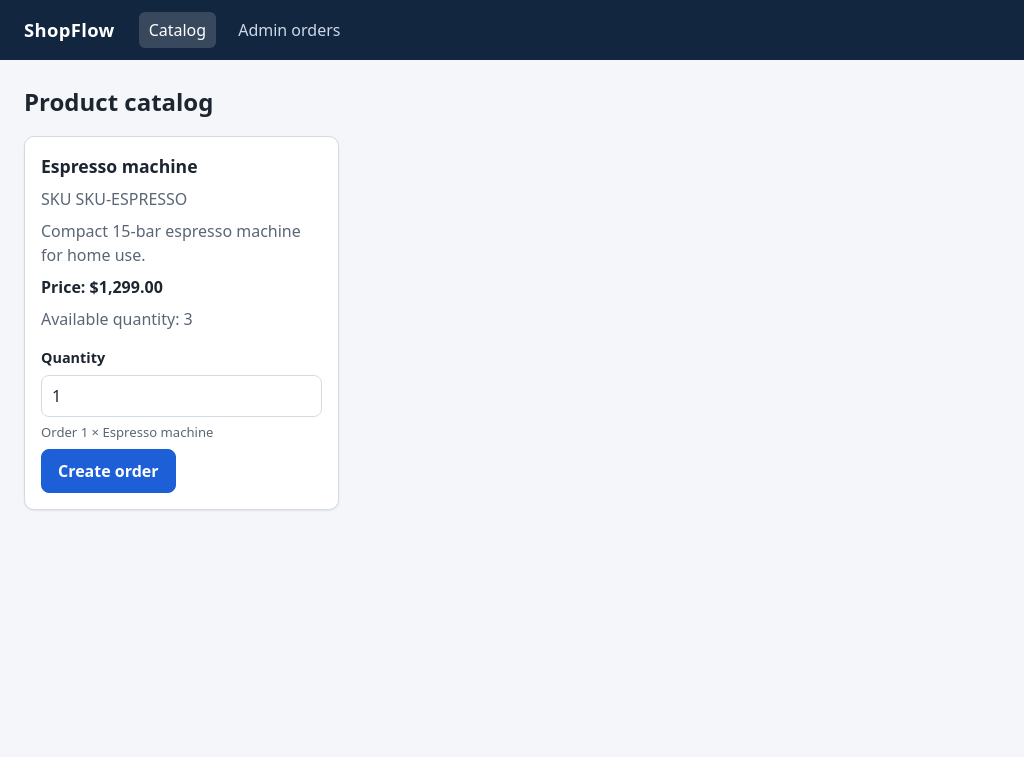
Test case: CatalogPage › creates an order with the documented payload, navigates to the order route and confirms the notification request
The image size is (1024, 757).
Expected: the heading "Espresso machine" is shown, x1=41 y1=154 x2=198 y2=178
Replace the text in the number field labelled "Quantity" with "2": (181, 396) x1=41 y1=375 x2=322 y2=417
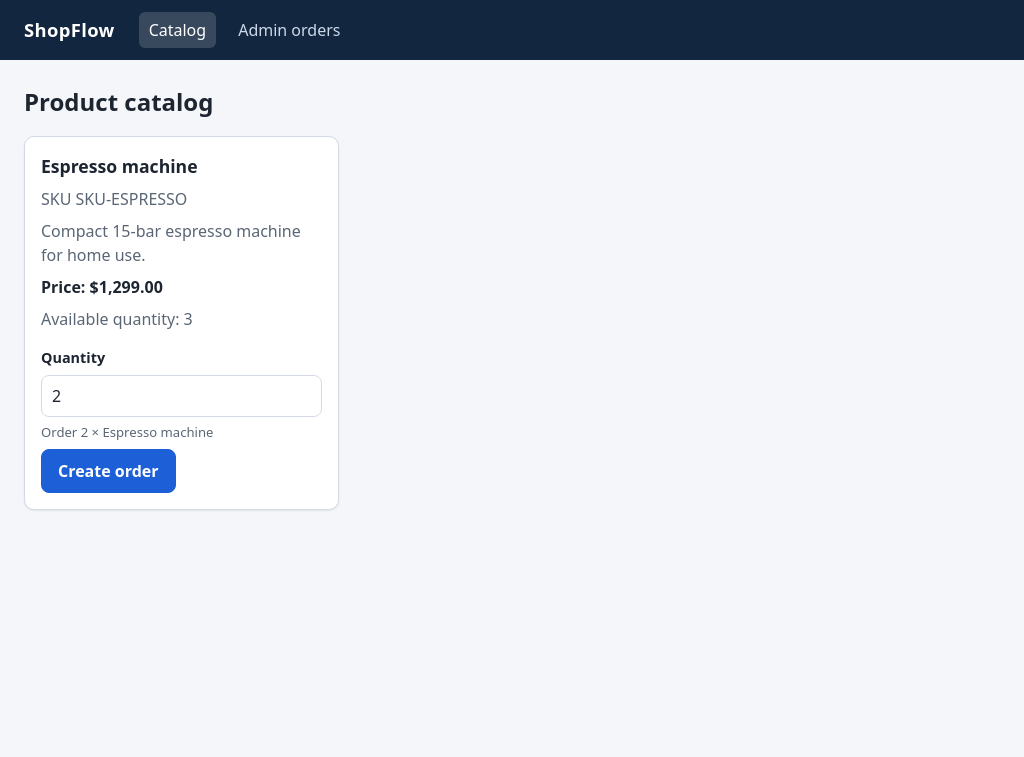
Click the button "Create order": (108, 471) x1=41 y1=449 x2=176 y2=493
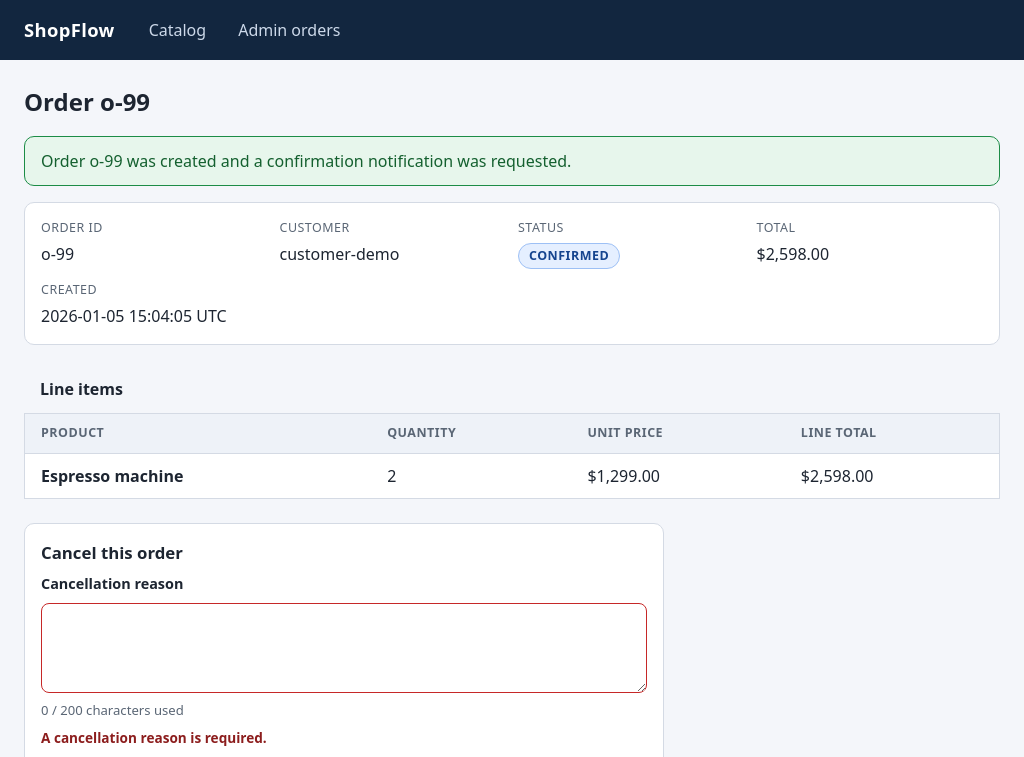
Now the heading "Order o-99" is shown, box x1=24 y1=85 x2=150 y2=118
Now the text "Order o-99 was created and a confirmation notification was requested." is shown, box x1=24 y1=136 x2=1000 y2=186
